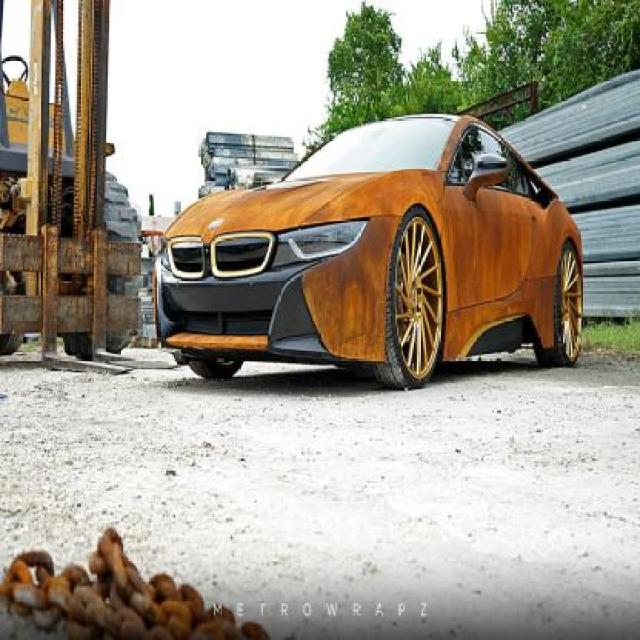corrosion: (154, 109, 586, 383)
